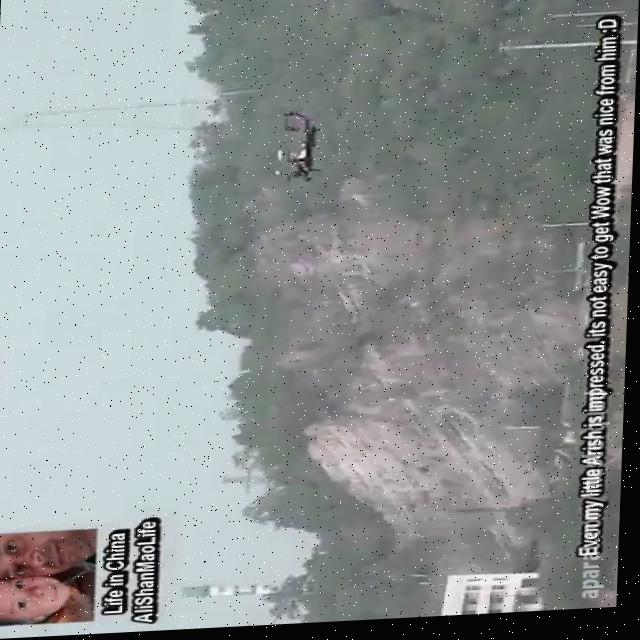drone: (270, 109, 324, 190)
